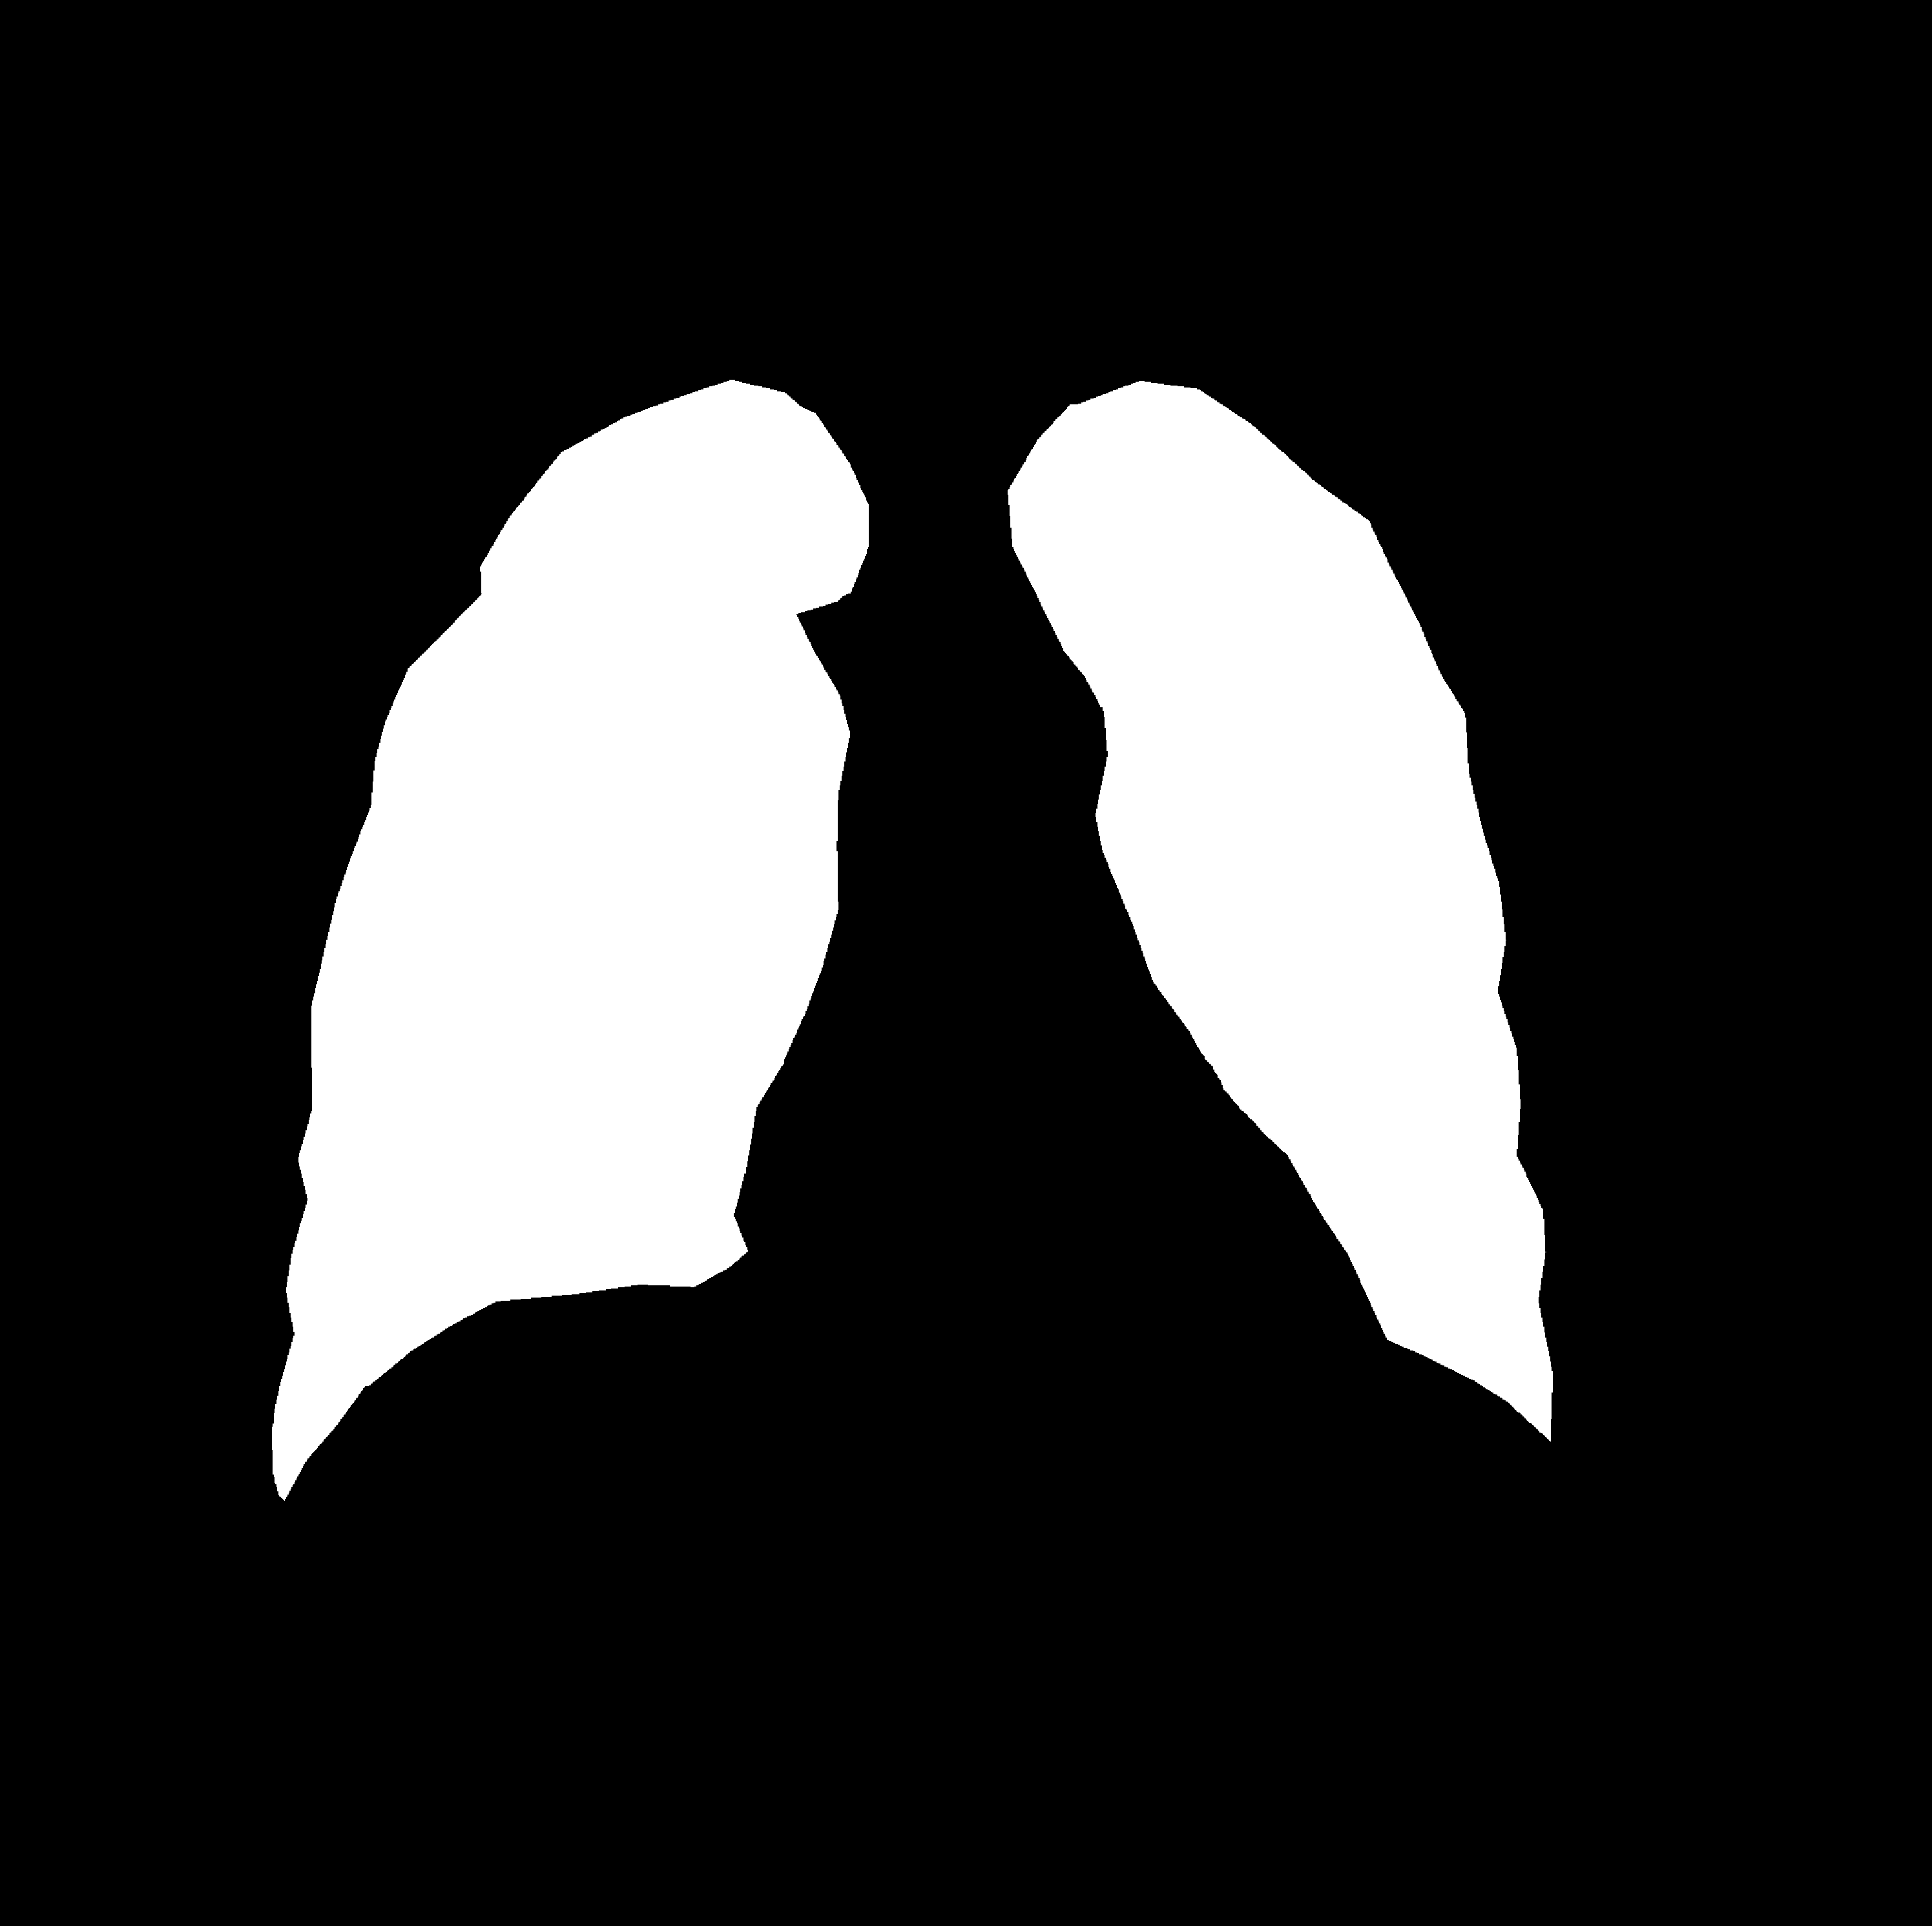heart: (738, 1030, 1362, 1420)
left_lung: (272, 379, 868, 1501)
right_lung: (1007, 381, 1553, 1441)
